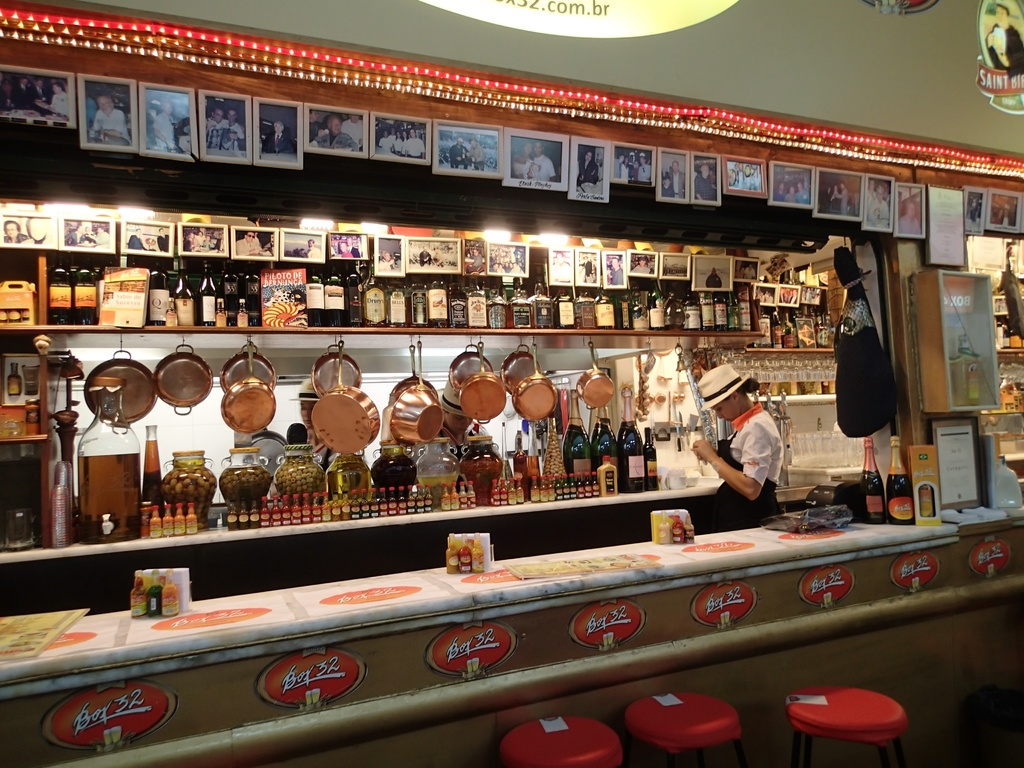Person: (0, 61, 1024, 232), (0, 206, 831, 297), (692, 367, 784, 531), (287, 378, 363, 482)
